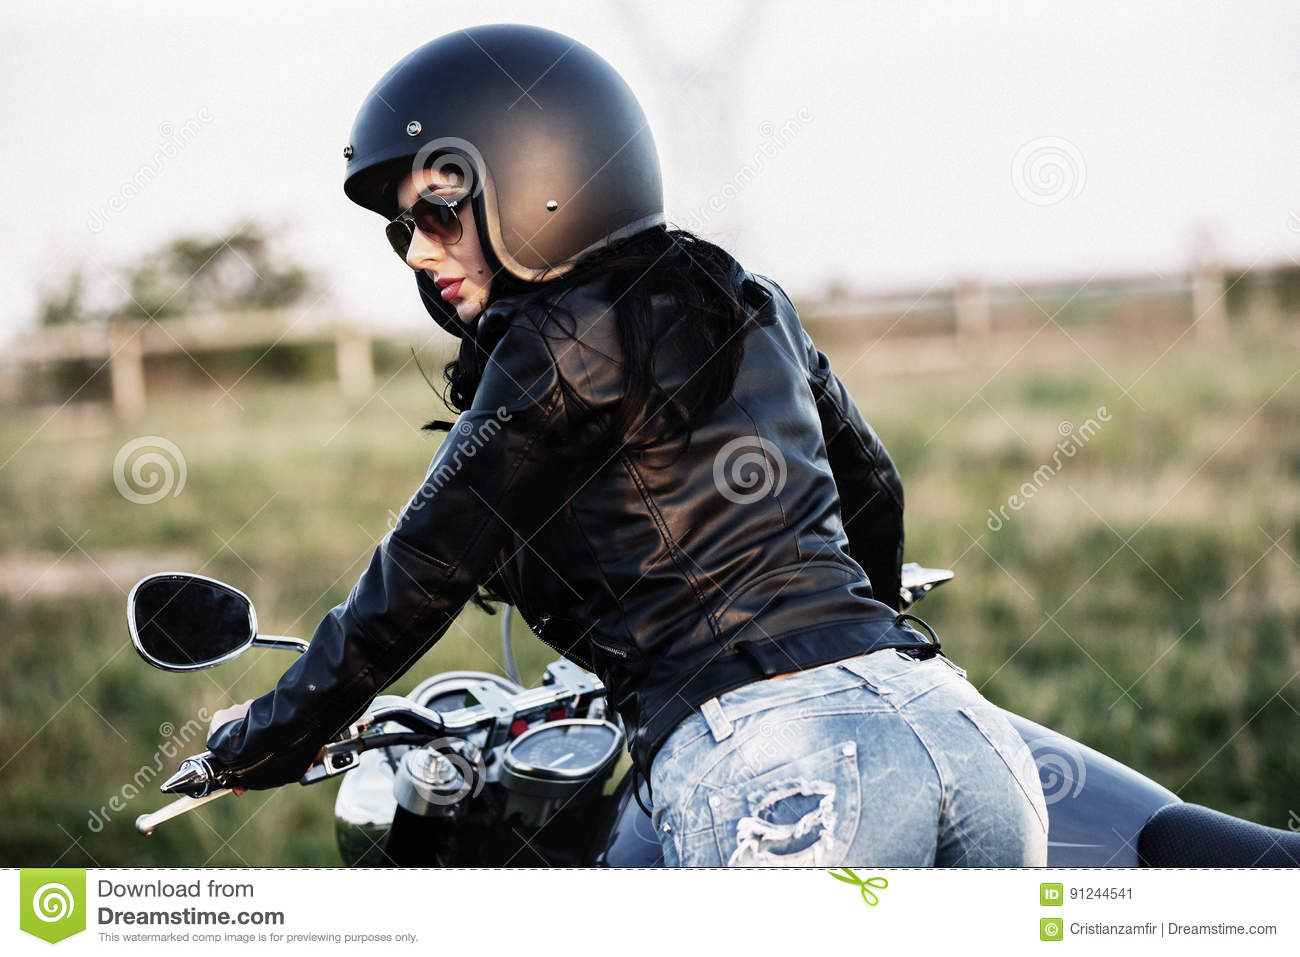helmet: (351, 24, 652, 260)
